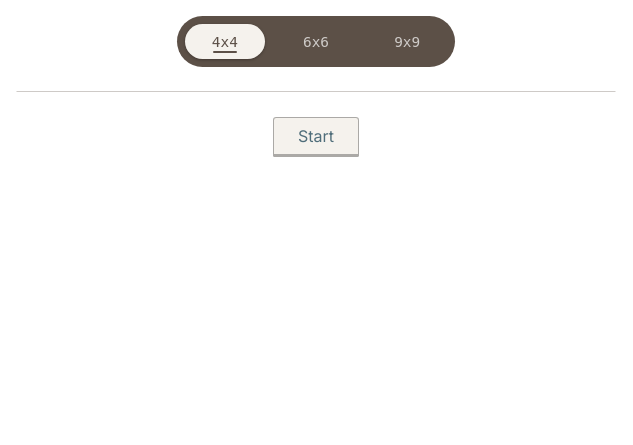
Test: Play Page Integration › loads and displays puzzle after starting game
Click the button "Start" at (316, 137), box [273,117,359,157]
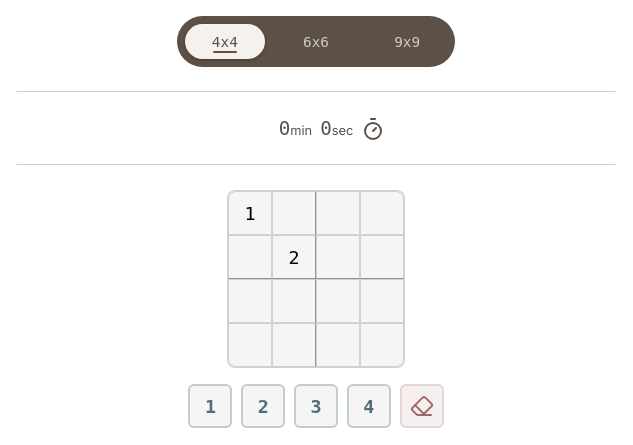
Now the element with test id "game-board" is shown, box [188,190,444,428]
